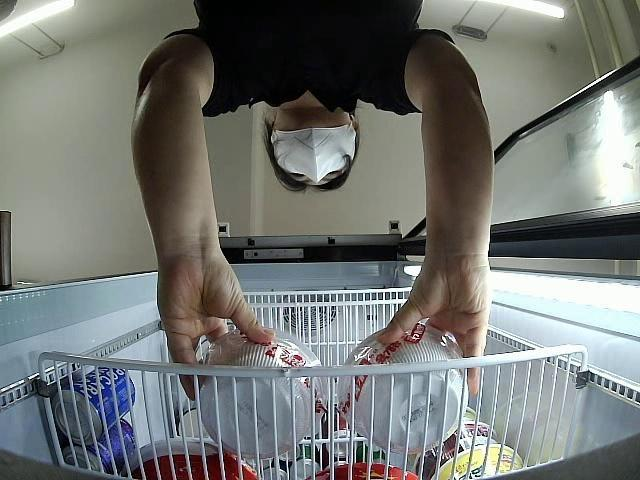09_yukGaeJang: (201, 327, 326, 458), (344, 324, 469, 450)
